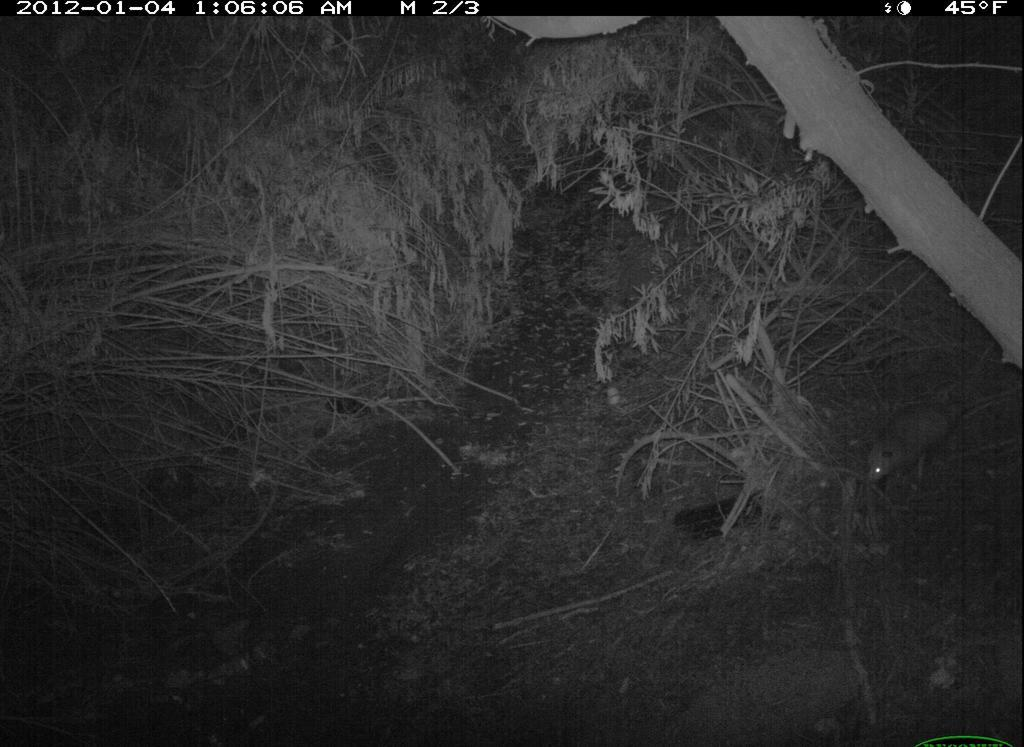opossum: (856, 382, 1023, 496)
